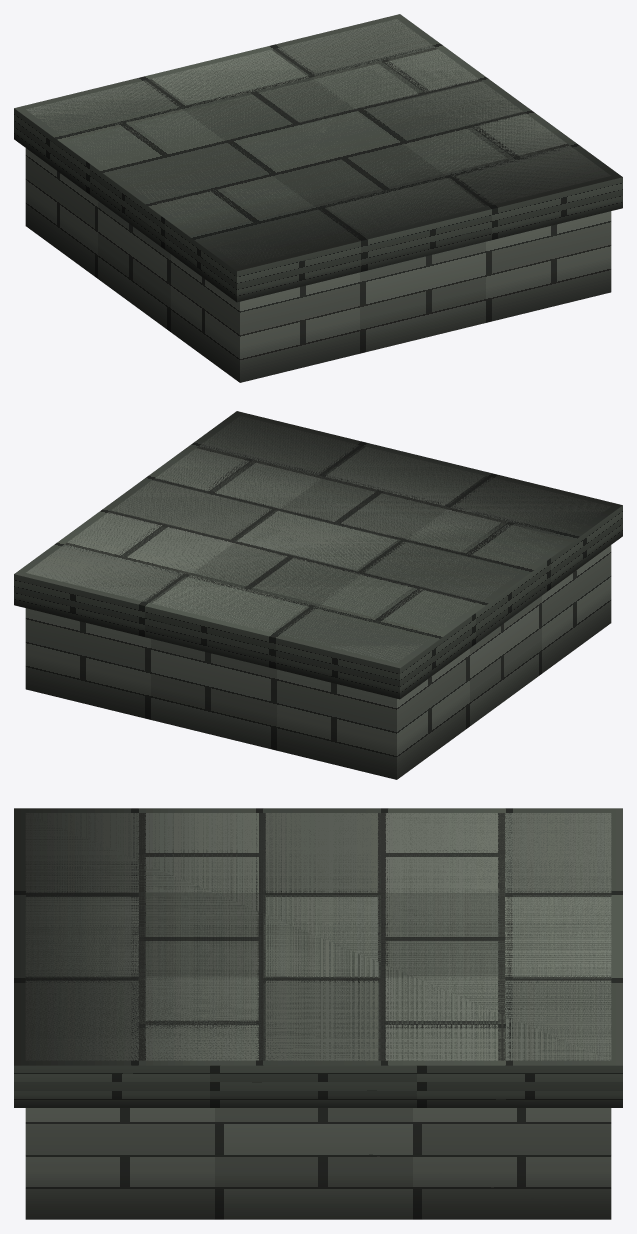
The model's file is foundation.gltf.
3 renders of one model, top to bottom at view 1: azimuth 30°, elevation 25°; view 2: azimuth 150°, elevation 25°; view 3: azimuth 270°, elevation 25°, orthographic. The views are drawn at different scales.
Visible parts, largest first — view 1: foundation; view 2: foundation; view 3: foundation.
Boxes of the visible parts, x1,y1,x2,y2 form: foundation: (14,14,622,382); foundation: (14,411,622,779); foundation: (14,808,622,1219).
Size of the model in its own units: 1.04 by 0.3 by 1.04.
Materials: 1 (1 with a texture image).
